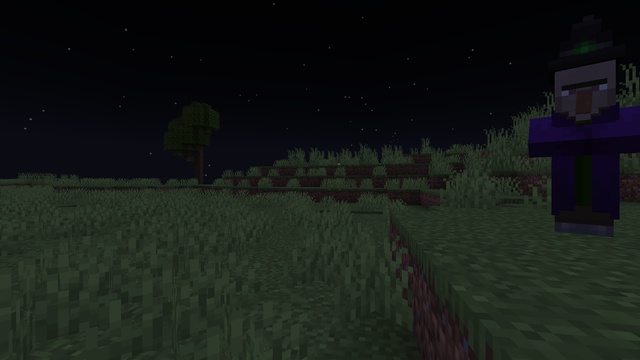sorcieres: (536, 51, 639, 239)
